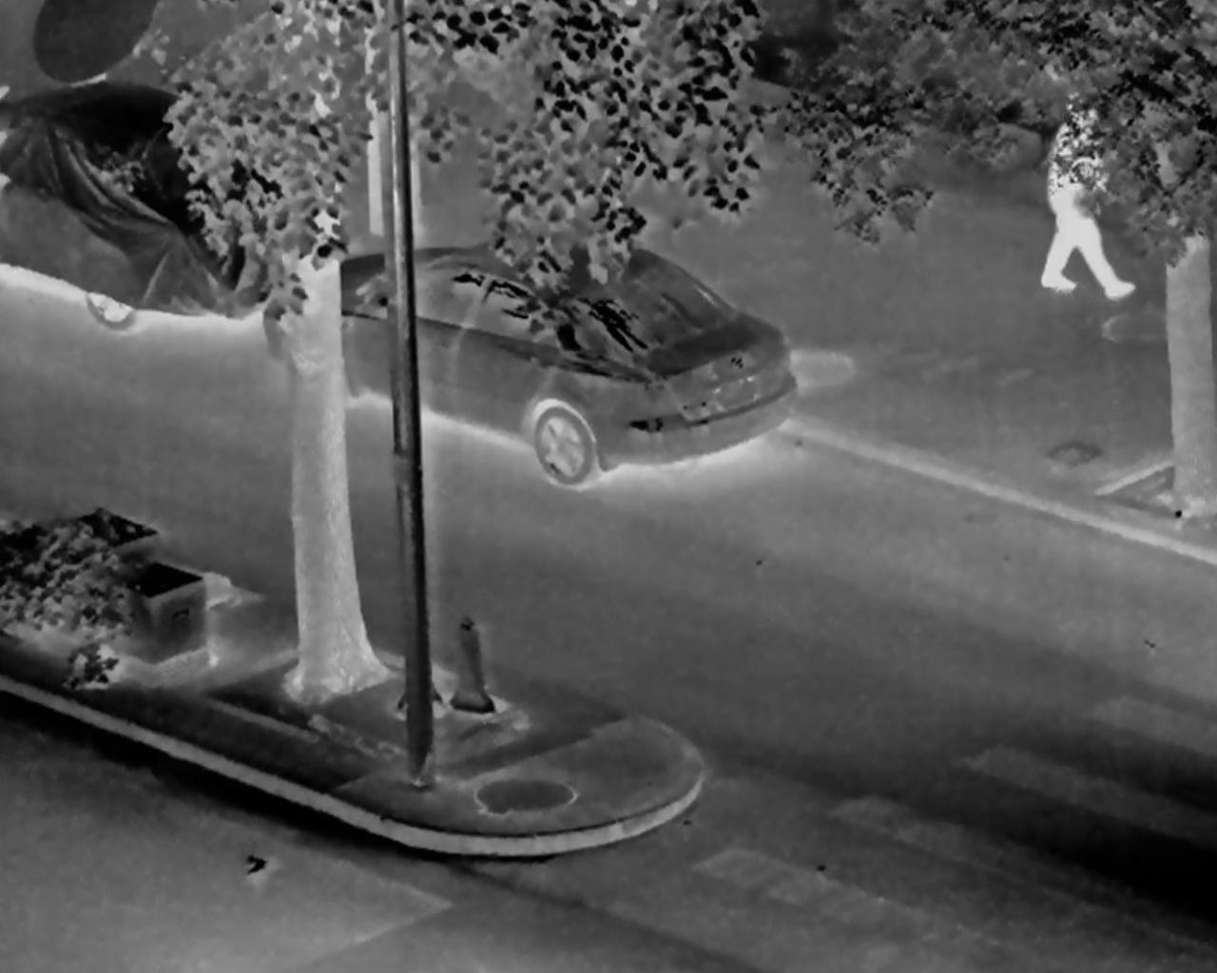person: (1033, 90, 1134, 297)
